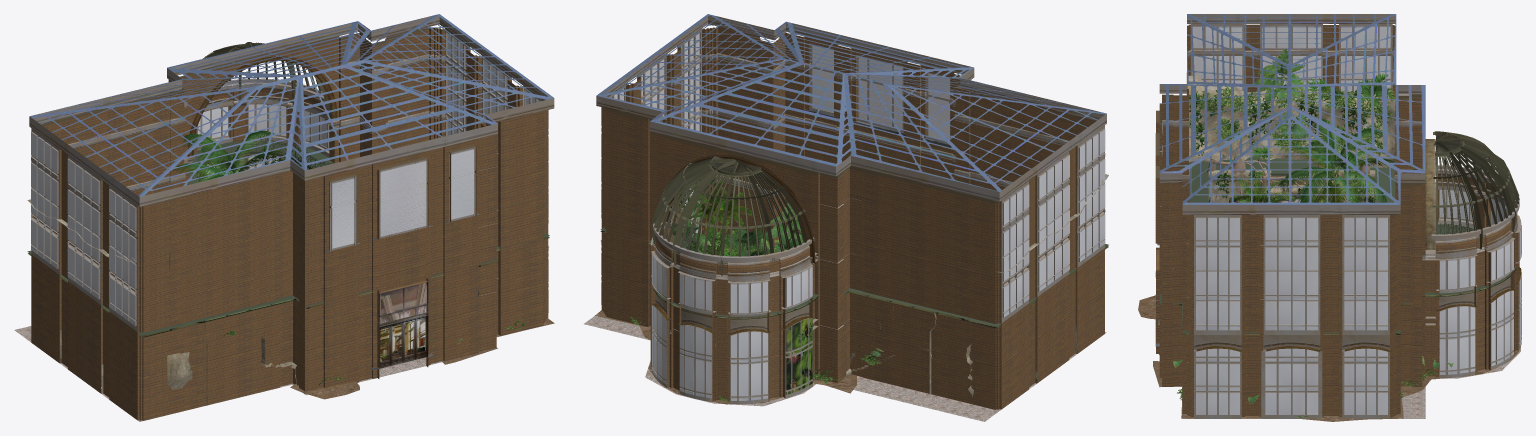
Rendered from wintertuin_v02-transformed.glb.
The picture shows the model from 3 angles, left to right: view 1: azimuth 30°, elevation 25°; view 2: azimuth 150°, elevation 25°; view 3: azimuth 270°, elevation 25°; orthographic projection. The views are drawn at different scales.
Visible parts, largest first — view 1: Cube.010, Gebouw, Plant, Rotsen02, Ground, Vloer; view 2: Cube.010, Gebouw, Plant, Vloer, Ground, Rotsen02; view 3: Cube.010, Gebouw, Plant, Rotsen02, Rotsen01, Ground, Vloer.
Part boxes in pixels (bbox=[...]): Cube.010: bbox=[27, 14, 554, 420]; Gebouw: bbox=[31, 33, 539, 325]; Plant: bbox=[172, 130, 524, 384]; Rotsen02: bbox=[27, 199, 192, 393]; Ground: bbox=[290, 318, 554, 399]; Vloer: bbox=[14, 326, 441, 421]; Cube.010: bbox=[596, 14, 1108, 409]; Gebouw: bbox=[611, 33, 1105, 400]; Plant: bbox=[630, 176, 1009, 401]; Vloer: bbox=[584, 316, 1106, 421]; Ground: bbox=[595, 242, 856, 404]; Rotsen02: bbox=[930, 168, 1108, 397]; Cube.010: bbox=[1155, 14, 1521, 418]; Gebouw: bbox=[1192, 26, 1521, 414]; Plant: bbox=[1154, 49, 1453, 418]; Rotsen02: bbox=[1186, 73, 1395, 191]; Rotsen01: bbox=[1207, 156, 1375, 202]; Ground: bbox=[1138, 295, 1521, 421]; Vloer: bbox=[1175, 323, 1520, 418].
Size of what is drawn, in the model's own units: 31.71 by 20.13 by 26.28.
Materials: 10 (9 with a texture image).
